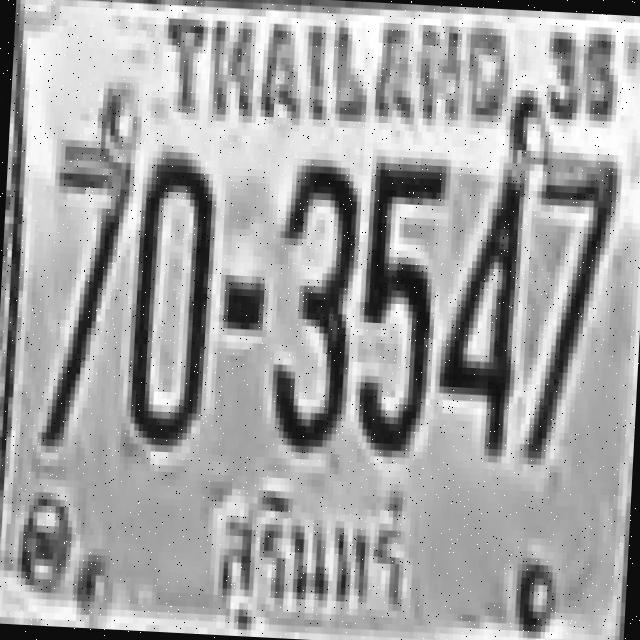0: (125, 147, 215, 444)
3: (265, 151, 359, 448)
4: (432, 164, 526, 454)
5: (352, 156, 442, 452)
7: (39, 126, 134, 443), (524, 152, 618, 462)
Surin: (206, 472, 418, 640)
